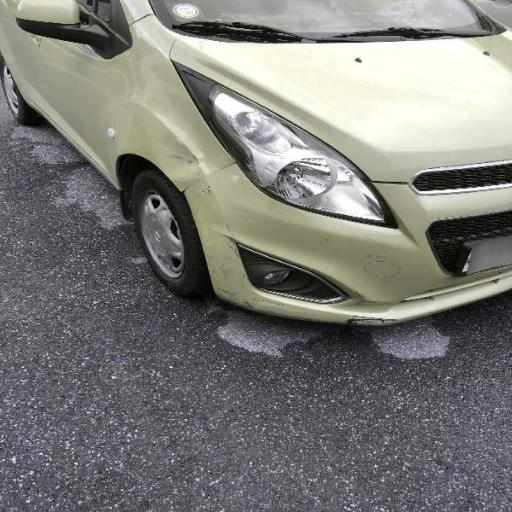dent: (134, 34, 384, 314)
